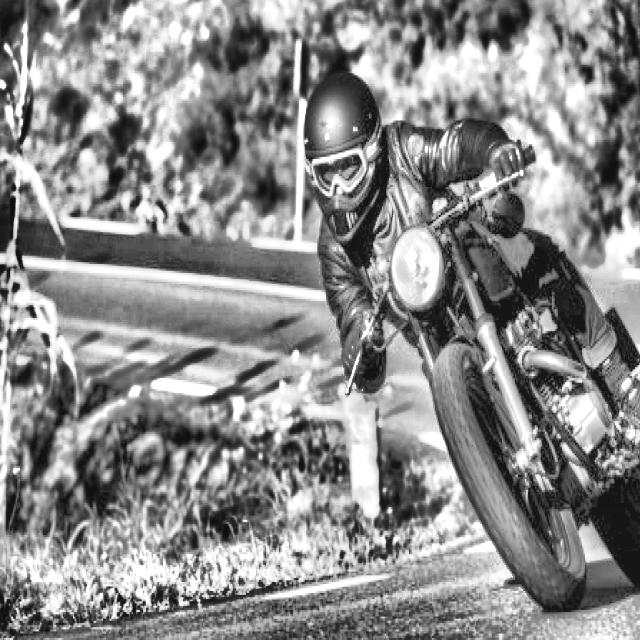Helmet: (290, 53, 398, 242)
